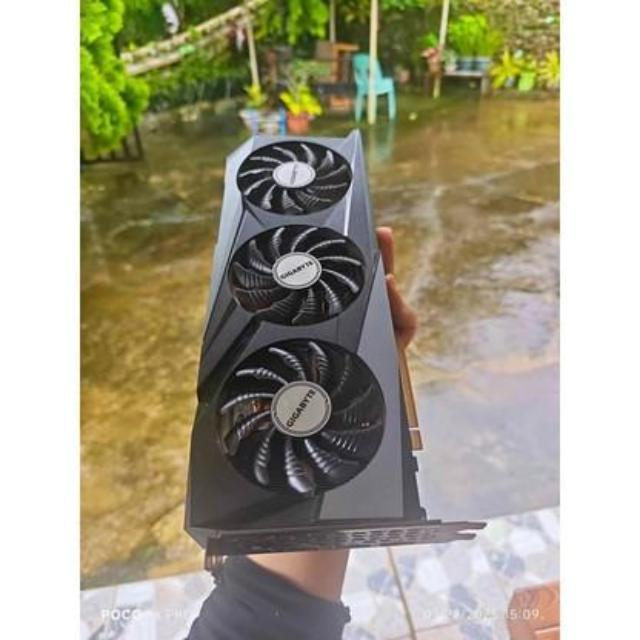GPU: (186, 118, 443, 560)
